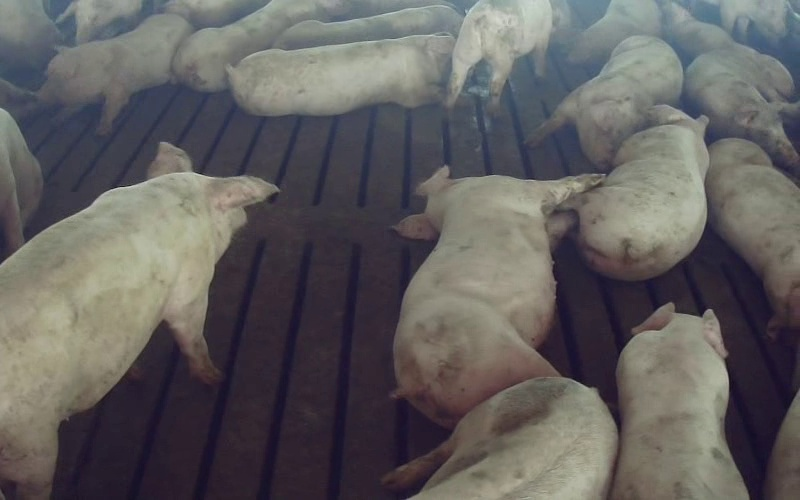pig: (0, 143, 276, 499), (394, 166, 603, 427), (382, 377, 616, 499), (612, 303, 748, 499), (576, 105, 708, 279), (527, 36, 682, 170), (38, 14, 192, 134), (705, 138, 799, 334), (227, 35, 454, 115), (684, 50, 799, 170), (662, 0, 793, 97), (273, 5, 462, 49)
